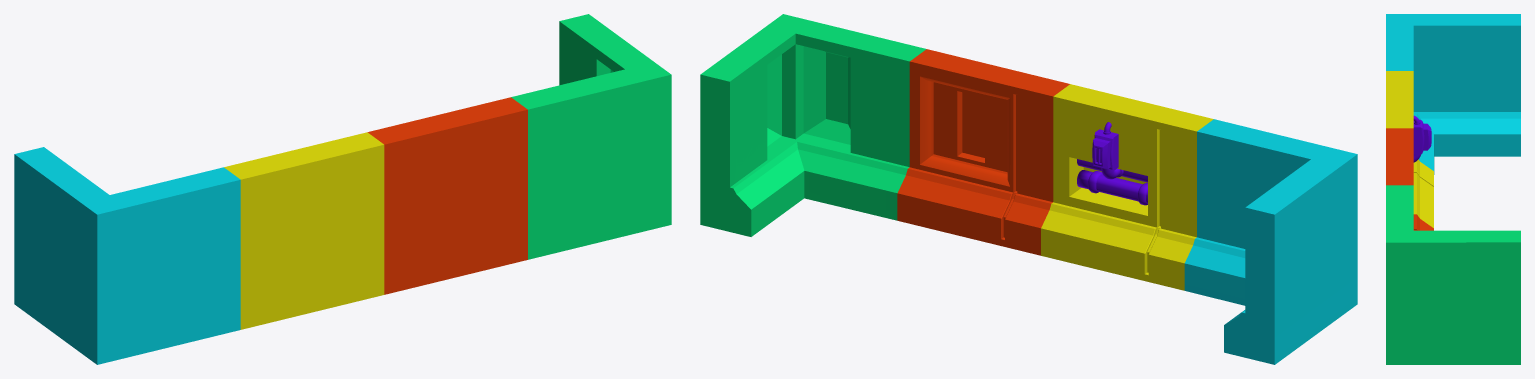
Rendered from modularroom.fbx.
The picture shows the model from 3 angles, left to right: view 1: azimuth 30°, elevation 25°; view 2: azimuth 150°, elevation 25°; view 3: azimuth 270°, elevation 25°; orthographic projection. The views are drawn at different scales.
Visible parts, largest first — view 1: base, pCube16, pCube3, pCube1; view 2: pCube16, base, pCube1, pCube3, pCube11, pCylinder2; view 3: pCube16, base, pCube3, pCube1, pCylinder2.
Boxes of the visible parts, bbox=[...] form: base: bbox=[14, 147, 240, 364]; pCube16: bbox=[511, 14, 671, 259]; pCube3: bbox=[224, 132, 384, 329]; pCube1: bbox=[367, 97, 527, 294]; pCube16: bbox=[700, 14, 926, 236]; base: bbox=[1184, 119, 1357, 364]; pCube1: bbox=[897, 49, 1069, 255]; pCube3: bbox=[1041, 84, 1213, 290]; pCube11: bbox=[1077, 170, 1147, 205]; pCylinder2: bbox=[1092, 129, 1118, 170]; pCube16: bbox=[1386, 185, 1520, 364]; base: bbox=[1386, 14, 1520, 174]; pCube3: bbox=[1386, 71, 1433, 227]; pCube1: bbox=[1386, 128, 1433, 230]; pCylinder2: bbox=[1413, 119, 1431, 154].
Bounding box in the file's own units: 1600 × 400 × 399.
